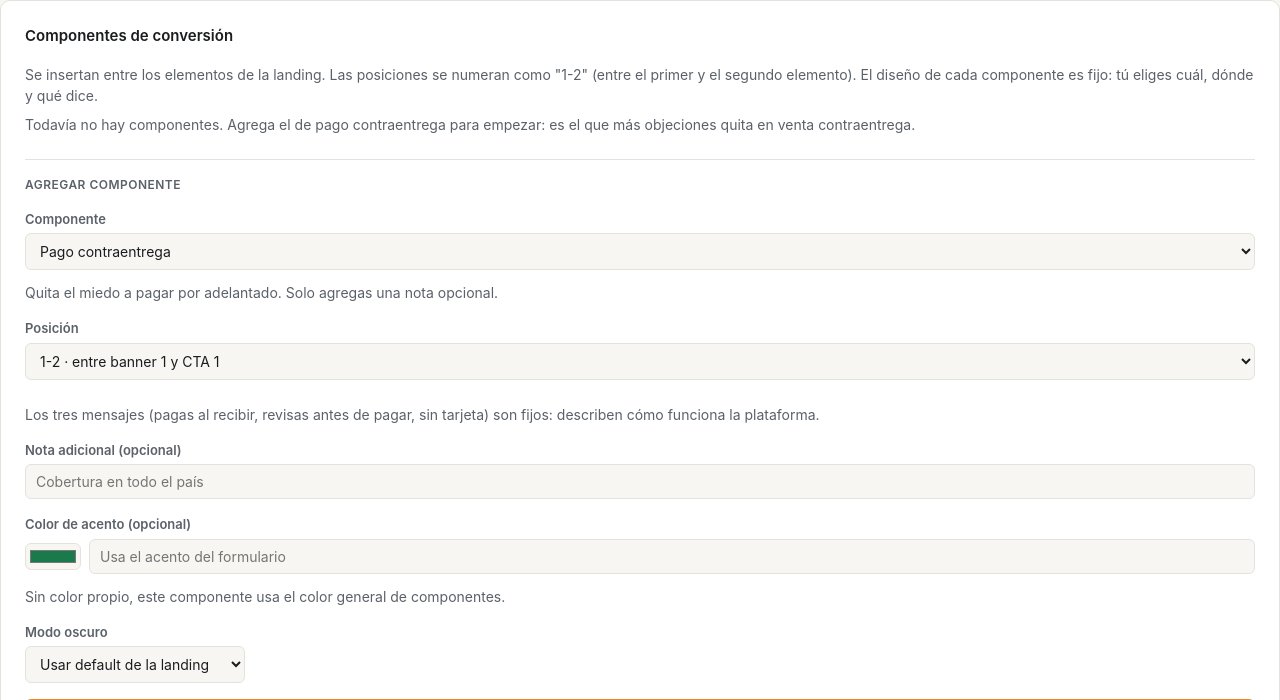
LandingBlocksPanel › binds a field-specific rejection to the control that produced it
Select "Beneficios" in the dropdown labelled "Componente" at (640, 252), box x1=25 y1=233 x2=1255 y2=270
(page scrolled)
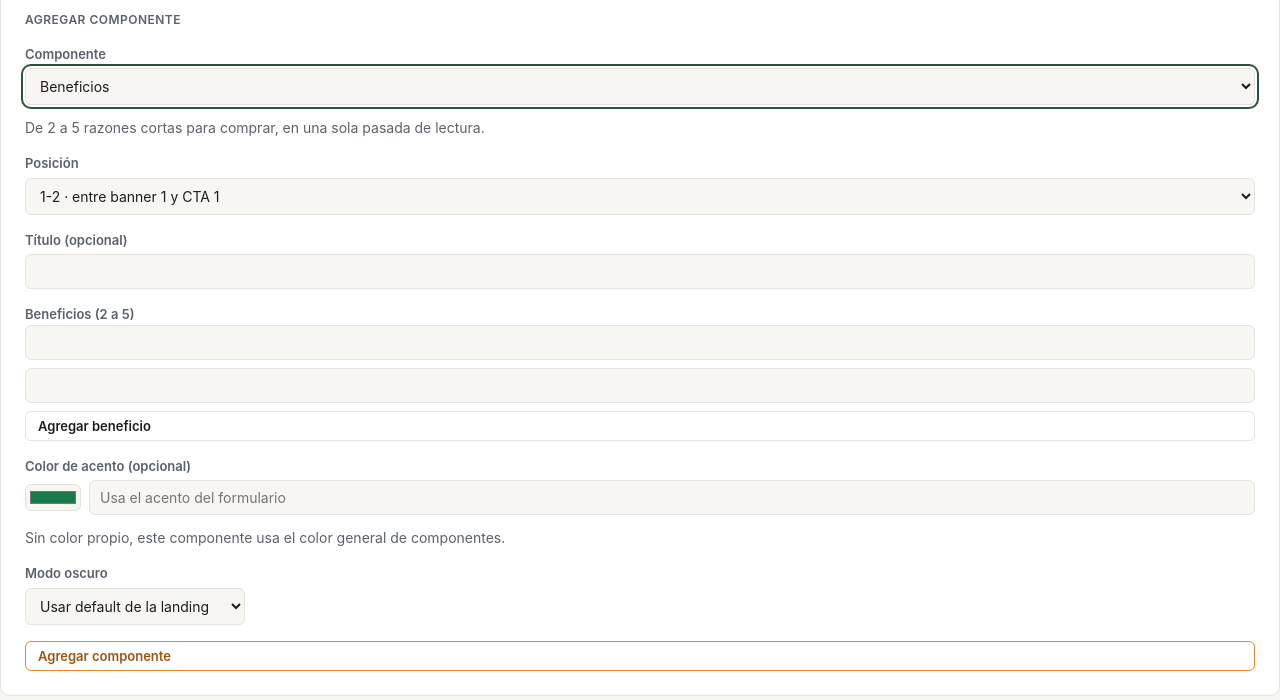
Click the button "Agregar componente".
click(104, 656)  # box x1=25 y1=640 x2=1255 y2=670
(page scrolled)
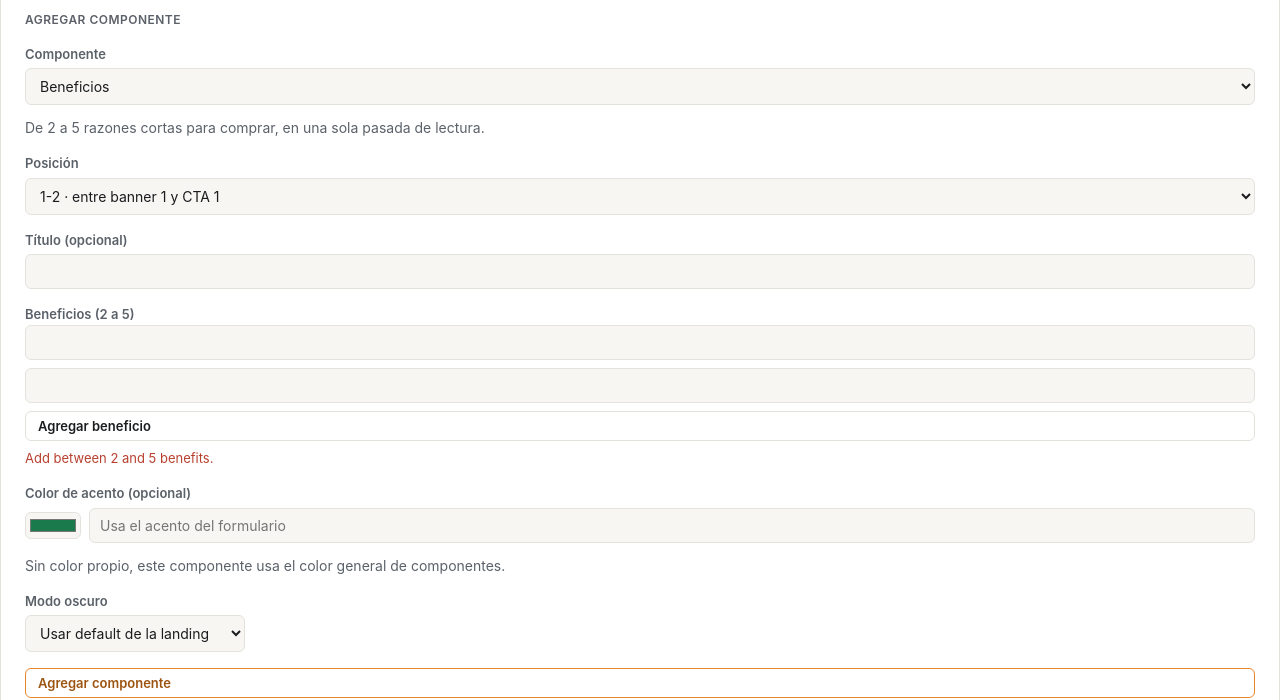
Expected: the text "Add between 2 and 5 benefits." is shown, x1=25 y1=450 x2=214 y2=466
